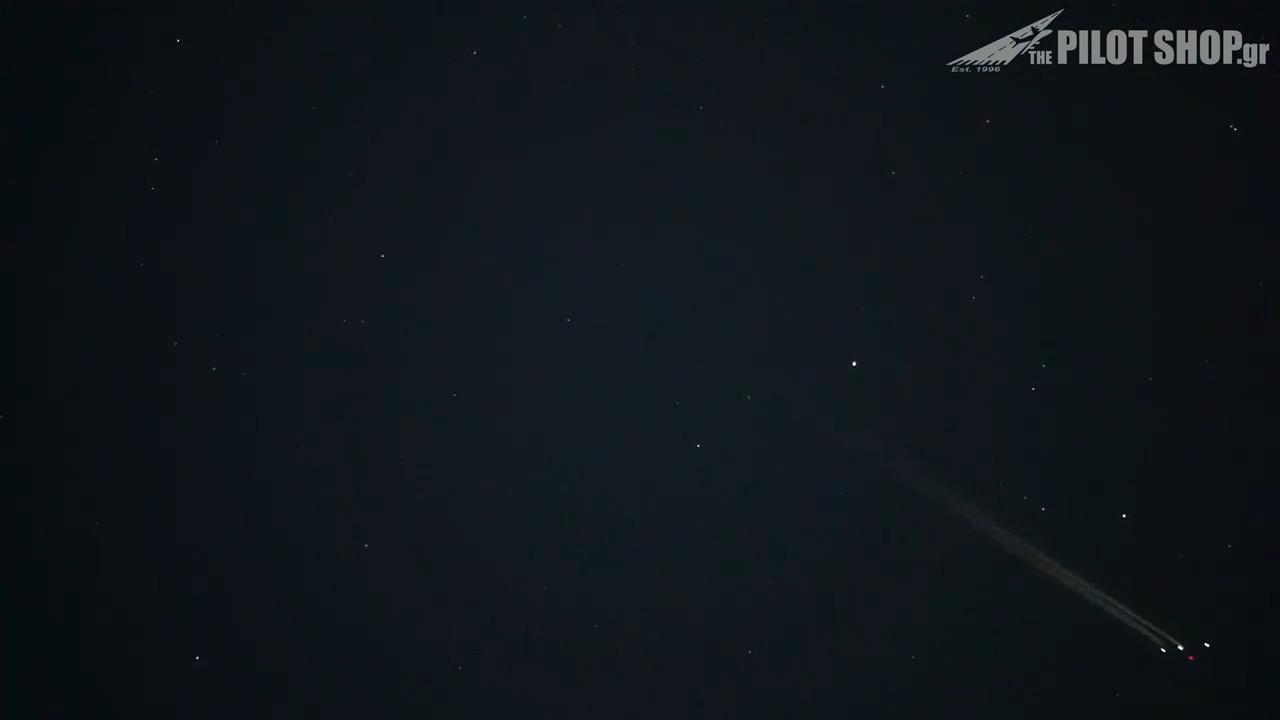Plane: (1126, 633, 1231, 664)
